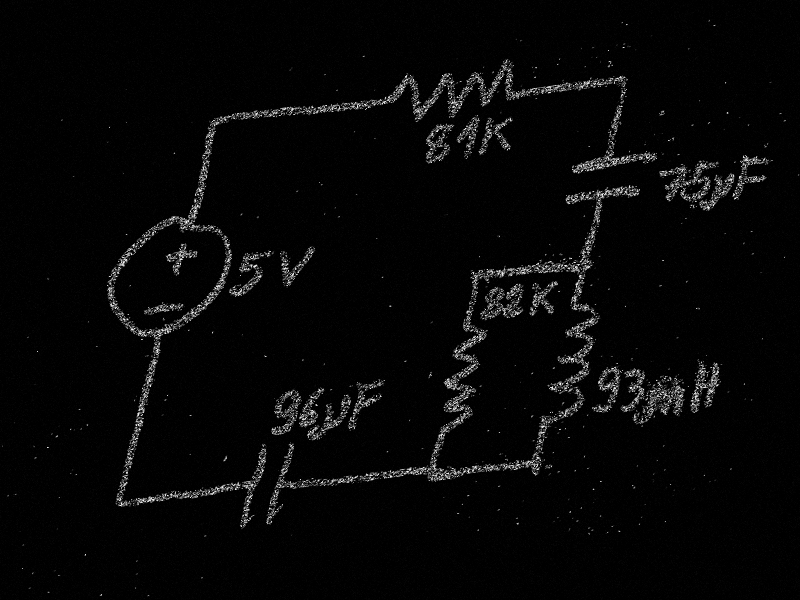1: (449, 112, 484, 164)
2: (501, 280, 530, 320)
3: (615, 366, 650, 414)
5: (227, 245, 275, 300), (684, 153, 720, 206)
6: (296, 385, 326, 429)
7: (651, 161, 694, 208)
8: (419, 120, 457, 167), (477, 284, 508, 323)
9: (264, 387, 304, 438), (588, 364, 624, 415)
F: (731, 150, 773, 203), (346, 377, 387, 431)
H: (685, 355, 725, 415)
V: (269, 243, 319, 292)
k: (477, 110, 520, 161), (525, 279, 562, 320)
m: (639, 381, 689, 423)
u: (314, 394, 353, 440), (707, 172, 735, 209)
